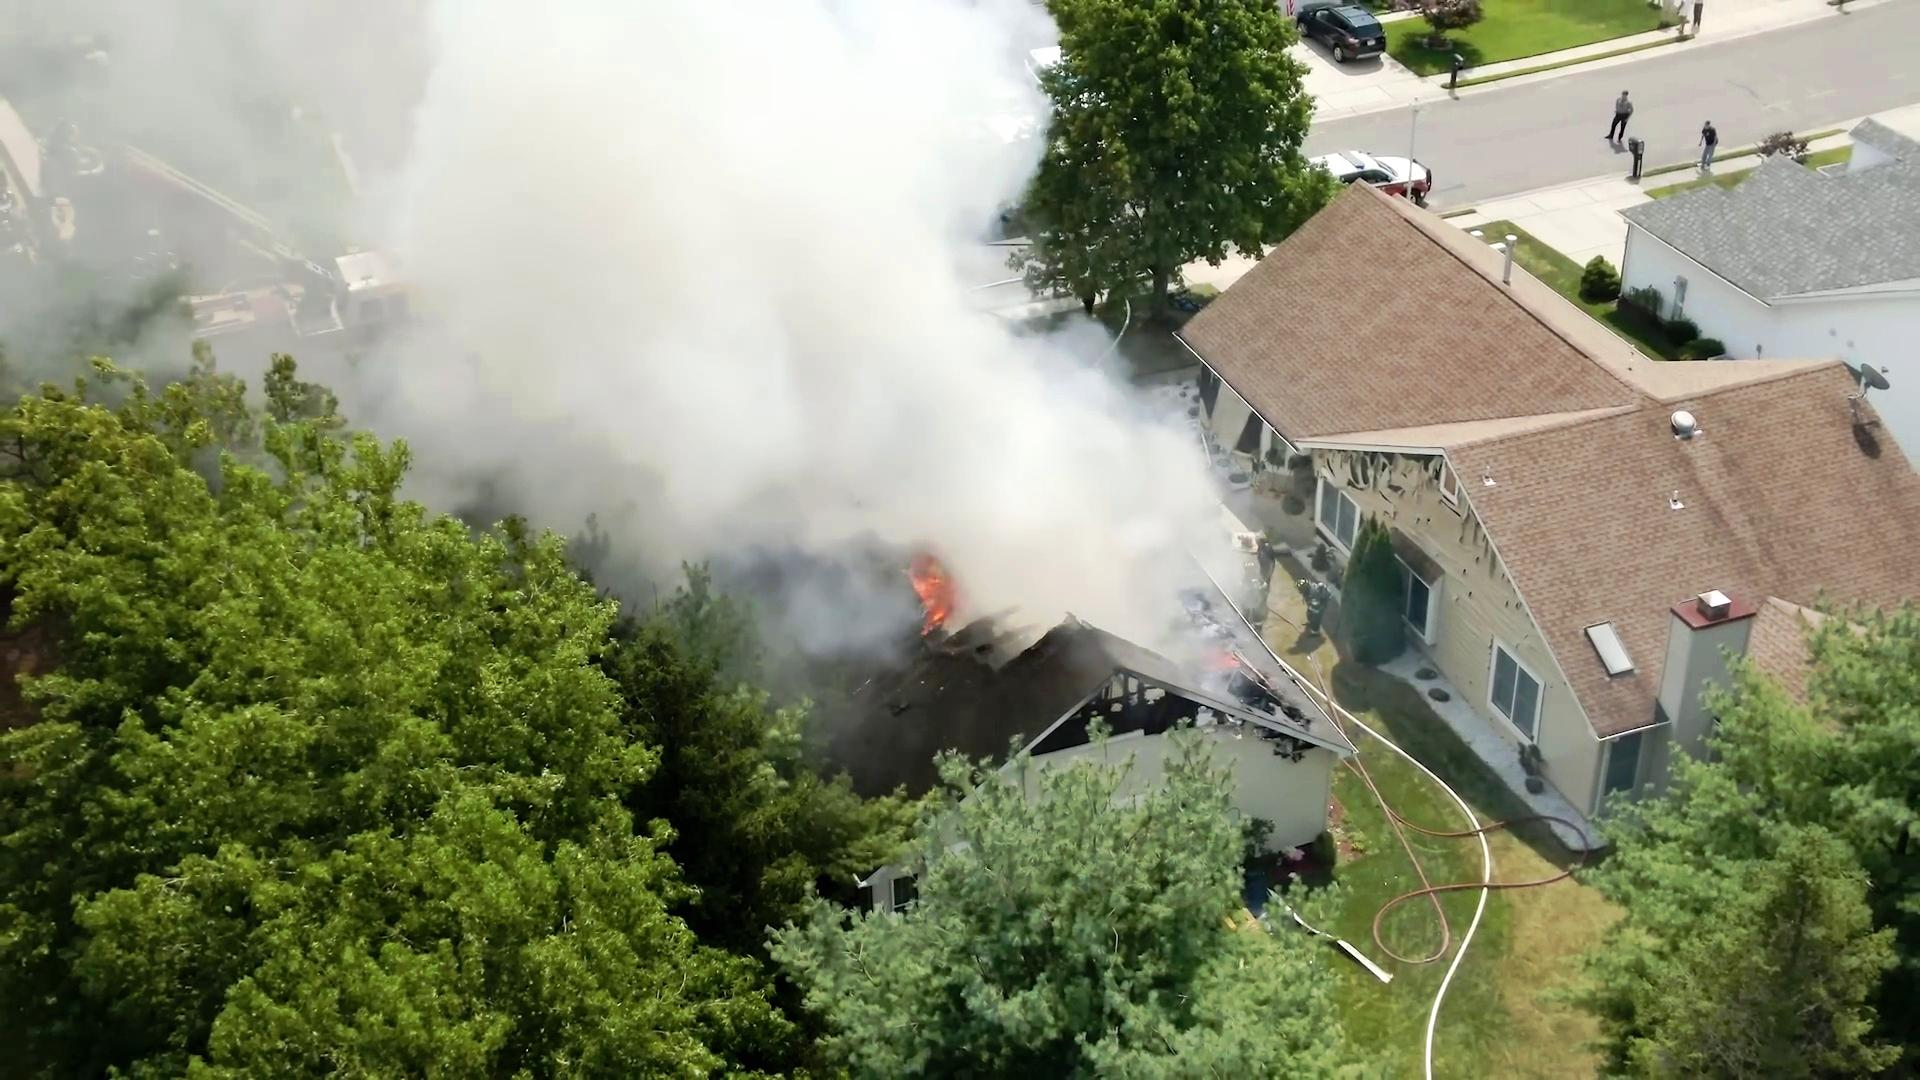smoke: (533, 0, 971, 593), (451, 18, 957, 356), (965, 377, 1208, 622)
